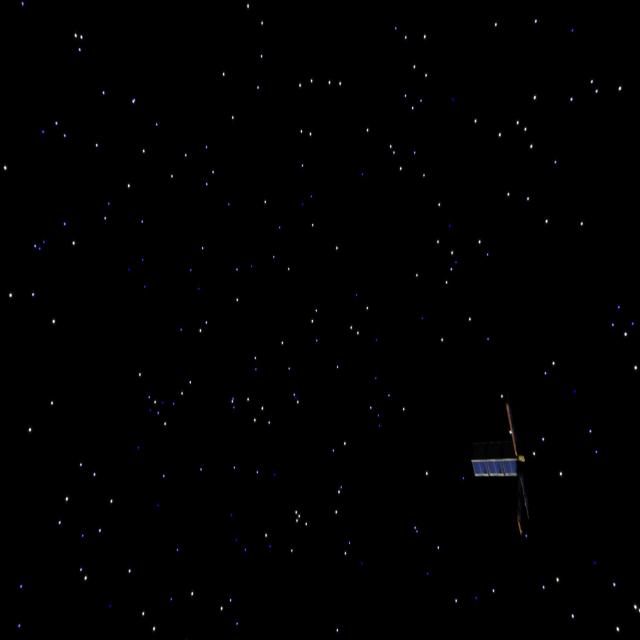medium_debris: (472, 389, 551, 539)
